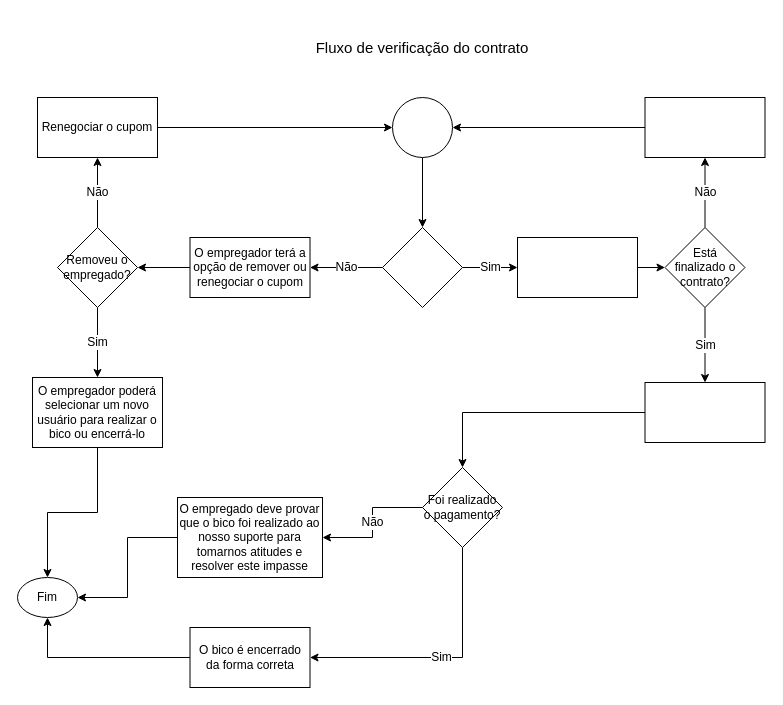
Some shapes in this 783 by 705 pixel diagram are drawn without their labels. The centre of each missing label's shape, as x and y in pixels:
"Deverá ser finalizado até o prazo de entrega" goes at [704,127].
"Está dentro do prazo?" goes at [422,267].
"Início" goes at [422,127].
"O empregador deverá realizar o pagamento" goes at [704,412].
"Quando finalizado o contrato o empregado deverá infromar o sistema" goes at [577,267].
